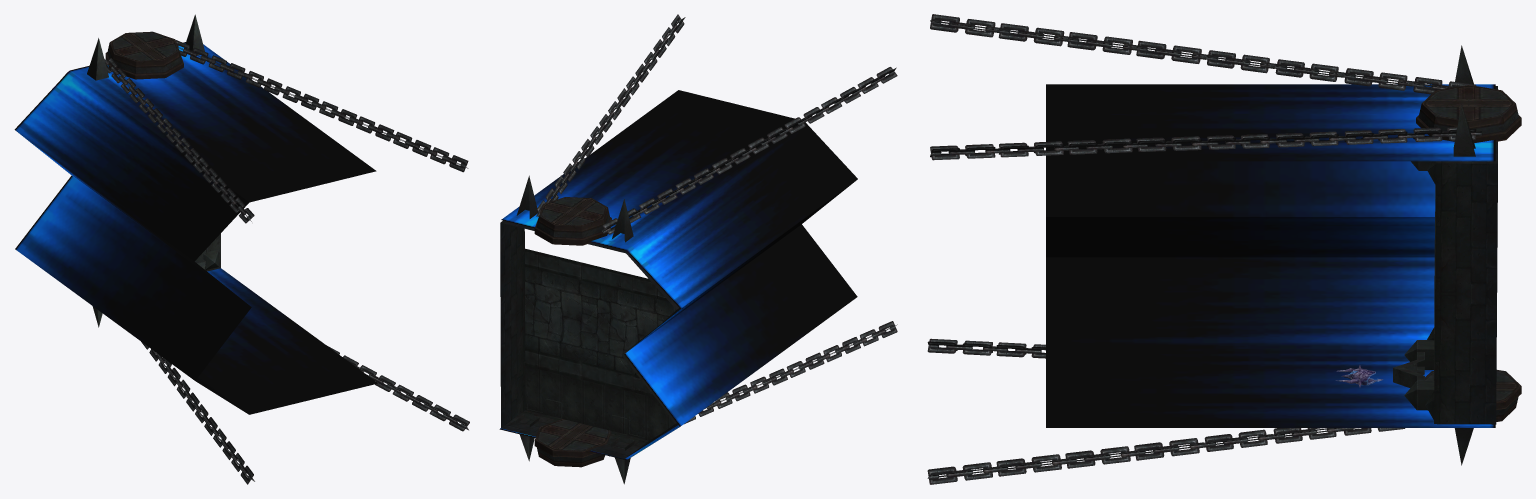
File: juqing_fuben_252_huodongpingtai_03.obj
The picture shows the model from 3 angles, left to right: view 1: azimuth 30°, elevation 25°; view 2: azimuth 150°, elevation 25°; view 3: azimuth 270°, elevation 25°; orthographic projection. The views are drawn at different scales.
Parts seen in each view (by area): view 1: Line01, juqing_fuben_252_huodongpingtai_03, Object02, Object01; view 2: Line01, Object01, juqing_fuben_252_huodongpingtai_03, Object02; view 3: Line01, juqing_fuben_252_huodongpingtai_03, Object01, Object02.
Part boxes in pixels (x1=…): Line01: x1=14, y1=42, x2=377, y2=414; juqing_fuben_252_huodongpingtai_03: x1=104, y1=40, x2=469, y2=484; Object02: x1=105, y1=31, x2=183, y2=79; Object01: x1=63, y1=14, x2=220, y2=327; Line01: x1=499, y1=90, x2=857, y2=460; Object01: x1=500, y1=175, x2=680, y2=484; juqing_fuben_252_huodongpingtai_03: x1=536, y1=14, x2=897, y2=456; Object02: x1=534, y1=197, x2=611, y2=467; Line01: x1=1046, y1=84, x2=1495, y2=427; juqing_fuben_252_huodongpingtai_03: x1=927, y1=14, x2=1481, y2=484; Object01: x1=1393, y1=45, x2=1497, y2=465; Object02: x1=1416, y1=85, x2=1521, y2=421.
Bounding box in the file's own units: 487 × 589 × 875.
6 materials, 6 textured.
